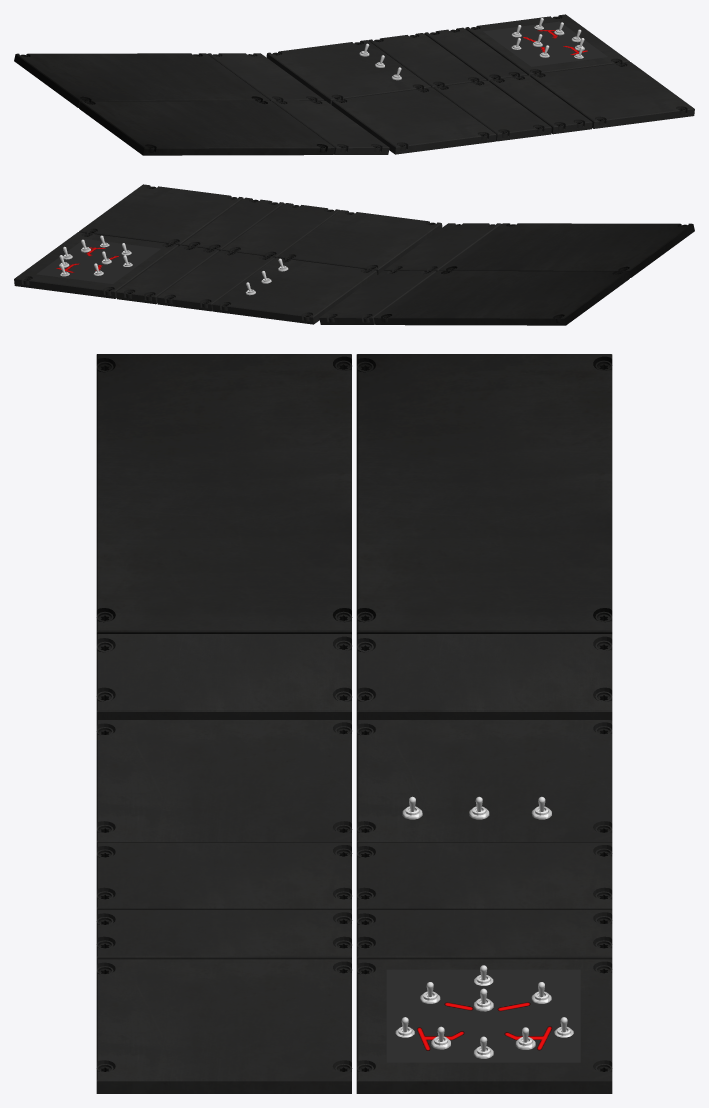
File: boards.obj
3 views of the same model, one above another, from view 1: azimuth 30°, elevation 25°; view 2: azimuth 150°, elevation 25°; view 3: azimuth 270°, elevation 25° (orthographic). The views are drawn at different scales.
Parts seen in each view (by area): view 1: boards.ac_board4.001__Geometry_1, boards.ac_board4__Geometry_1, boards.ac_board2.003__Geometry_1, boards.ac_board2.002__Geometry_1, boards.ac_board2__Geometry_1, boards.ac_board3.002__Geometry_1, boards.ac_board3.001__Geometry_1, boards.ac_board3.003__Geometry_1, boards.ac_Plane__Geometry_0, boards.ac_board2.001__Geometry_1, boards.ac_board3__Geometry_1, boards.ac_board.001__Geometry_1 (+1 smaller); view 2: boards.ac_board4__Geometry_1, boards.ac_board4.001__Geometry_1, boards.ac_board2__Geometry_1, boards.ac_board2.003__Geometry_1, boards.ac_board2.002__Geometry_1, boards.ac_board3.001__Geometry_1, boards.ac_board2.001__Geometry_1, boards.ac_board3.002__Geometry_1, boards.ac_board3__Geometry_1, boards.ac_Plane__Geometry_0, boards.ac_board3.003__Geometry_1, boards.ac_board__Geometry_1 (+1 smaller); view 3: boards.ac_board4__Geometry_1, boards.ac_board4.001__Geometry_1, boards.ac_board2.002__Geometry_1, boards.ac_board2.003__Geometry_1, boards.ac_board2__Geometry_1, boards.ac_board3__Geometry_1, boards.ac_board3.003__Geometry_1, boards.ac_board3.001__Geometry_1, boards.ac_board3.002__Geometry_1, boards.ac_board2.001__Geometry_1, boards.ac_Plane__Geometry_0, boards.ac_board__Geometry_1 (+1 smaller).
Boxes of the visible parts, left/top/right/bottom form: boards.ac_board4.001__Geometry_1: left=79, top=101, right=334, bottom=155; boards.ac_board4__Geometry_1: left=14, top=53, right=269, bottom=107; boards.ac_board2.003__Geometry_1: left=331, top=87, right=496, bottom=154; boards.ac_board2.002__Geometry_1: left=530, top=62, right=694, bottom=128; boards.ac_board2__Geometry_1: left=266, top=40, right=431, bottom=104; boards.ac_board3.002__Geometry_1: left=433, top=80, right=551, bottom=141; boards.ac_board3.001__Geometry_1: left=368, top=33, right=486, bottom=87; boards.ac_board3.003__Geometry_1: left=272, top=101, right=389, bottom=154; boards.ac_Plane__Geometry_0: left=483, top=21, right=607, bottom=66; boards.ac_board2.001__Geometry_1: left=465, top=14, right=629, bottom=76; boards.ac_board3__Geometry_1: left=207, top=53, right=324, bottom=102; boards.ac_board.001__Geometry_1: left=489, top=75, right=592, bottom=134; boards.ac_board4__Geometry_1: left=374, top=271, right=629, bottom=325; boards.ac_board4.001__Geometry_1: left=439, top=223, right=694, bottom=277; boards.ac_board2__Geometry_1: left=212, top=257, right=377, bottom=324; boards.ac_board2.003__Geometry_1: left=277, top=210, right=442, bottom=274; boards.ac_board2.002__Geometry_1: left=79, top=184, right=243, bottom=246; boards.ac_board3.001__Geometry_1: left=157, top=250, right=275, bottom=311; boards.ac_board2.001__Geometry_1: left=14, top=232, right=178, bottom=298; boards.ac_board3.002__Geometry_1: left=222, top=203, right=340, bottom=257; boards.ac_board3__Geometry_1: left=319, top=271, right=436, bottom=324; boards.ac_Plane__Geometry_0: left=36, top=239, right=160, bottom=283; boards.ac_board3.003__Geometry_1: left=384, top=223, right=501, bottom=272; boards.ac_board__Geometry_1: left=116, top=245, right=219, bottom=304; boards.ac_board4__Geometry_1: left=356, top=354, right=612, bottom=634; boards.ac_board4.001__Geometry_1: left=96, top=354, right=351, bottom=634; boards.ac_board2.002__Geometry_1: left=96, top=959, right=351, bottom=1093; boards.ac_board2.003__Geometry_1: left=96, top=720, right=351, bottom=842; boards.ac_board2__Geometry_1: left=356, top=720, right=612, bottom=842; boards.ac_board3__Geometry_1: left=356, top=634, right=612, bottom=720; boards.ac_board3.003__Geometry_1: left=96, top=634, right=351, bottom=720; boards.ac_board3.001__Geometry_1: left=356, top=842, right=612, bottom=910; boards.ac_board3.002__Geometry_1: left=96, top=842, right=351, bottom=910; boards.ac_board2.001__Geometry_1: left=356, top=959, right=612, bottom=1093; boards.ac_Plane__Geometry_0: left=386, top=969, right=580, bottom=1062; boards.ac_board__Geometry_1: left=356, top=910, right=612, bottom=959.
Size of the model in its own units: 0.8377 by 0.148 by 0.3391.
